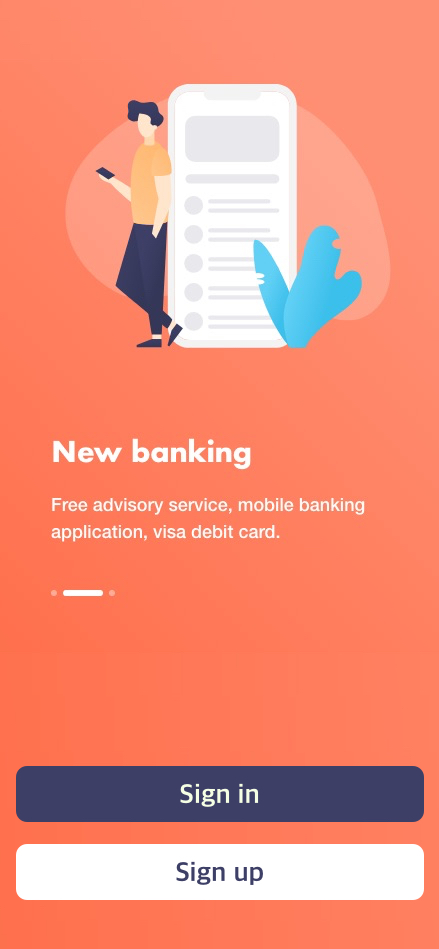Image: (65, 84, 391, 350)
PageIndicator: (51, 590, 117, 598)
Text: (52, 497, 365, 543), (54, 438, 252, 471)
TextButton: (16, 844, 425, 901), (17, 766, 425, 823)
